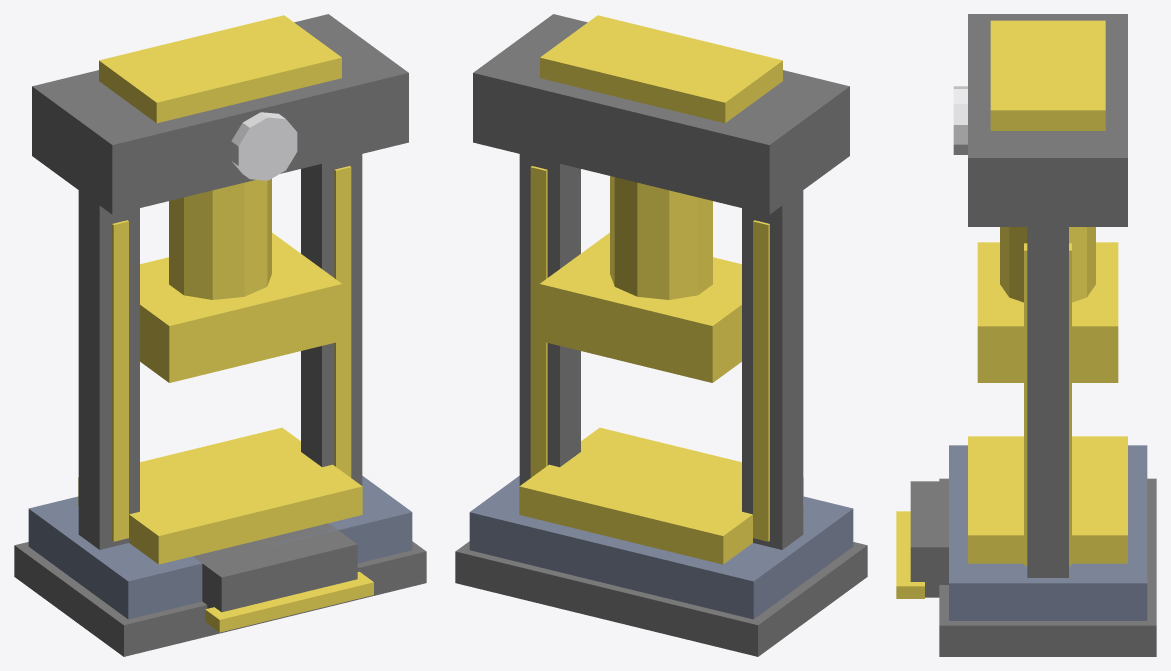
The model's file is press_gold.glb.
3 views of the same model, side by side, from view 1: azimuth 30°, elevation 25°; view 2: azimuth 150°, elevation 25°; view 3: azimuth 270°, elevation 25° (orthographic).
Visible parts, largest first — view 1: press_gold; view 2: press_gold; view 3: press_gold.
Part boxes in pixels (x1,y1,x2,y2): press_gold: (14, 14, 426, 656); press_gold: (455, 14, 867, 656); press_gold: (896, 14, 1156, 656).
Size of the model in its own units: 1 by 1.64 by 0.75.
